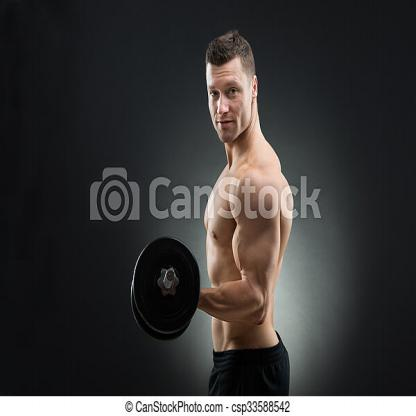Barbell: (127, 230, 205, 339)
